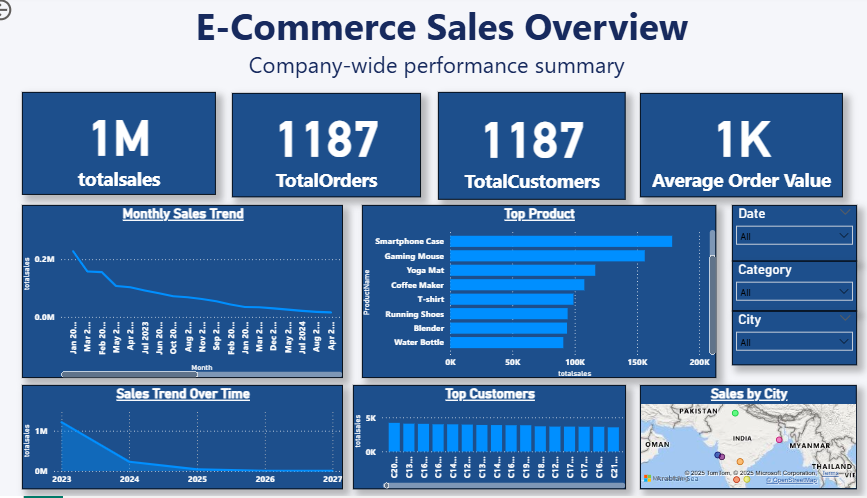

What the dashboard file says about the page in this screenshot:
{"tool":"powerbi","page":{"name":"Page 1","canvas":[1280,720],"ordinal":0},"visuals":[{"type":"textbox","box":[210,0,875,138.3],"z":0},{"type":"card","fields":{"Values":["merged_ecommerce_dataset.TotalCustomers"]},"box":[650.1,137.7,270.4,154.5],"z":1000},{"type":"card","fields":{"Values":["merged_ecommerce_dataset.TotalOrders"]},"box":[352.8,139.4,272.1,149.5],"z":2000},{"type":"card","title":"t","fields":{"Values":["merged_ecommerce_dataset.totalsales"]},"box":[50.4,138.2,279.4,148.3],"z":3000},{"type":"card","fields":{"Values":["merged_ecommerce_dataset.Average Order Value"]},"box":[940.7,139.4,292.3,149.5],"z":4000},{"type":"lineChart","title":"Monthly Sales Trend","fields":{"Category":["merged_ecommerce_dataset.Month"],"Y":["merged_ecommerce_dataset.totalsales"]},"box":[50.4,301,462.2,249.1],"z":5000},{"type":"actionButton","box":[0,0,100,40],"z":6000},{"type":"barChart","title":"Top Product","fields":{"Category":["merged_ecommerce_dataset.ProductName"],"Y":["merged_ecommerce_dataset.totalsales"]},"box":[540,301,509.8,249.1],"z":7000},{"type":"slicer","fields":{"Values":["merged_ecommerce_dataset.OrderDate"]},"box":[1072.8,301,180,80.6],"z":8000},{"type":"slicer","fields":{"Values":["merged_ecommerce_dataset.Category"]},"box":[1072.8,381.6,180,72],"z":9000},{"type":"slicer","fields":{"Values":["merged_ecommerce_dataset.City"]},"box":[1072.8,453.6,180,77.8],"z":10000},{"type":"map","title":"Sales by City","fields":{"Category":["merged_ecommerce_dataset.City"],"Size":["merged_ecommerce_dataset.TotalOrders"]},"box":[940.3,560.2,312.5,149.8],"z":11000},{"type":"areaChart","title":"Sales Trend Over Time","fields":{"Category":["merged_ecommerce_dataset.OrderDate.Variation.Date Hierarchy.Year","merged_ecommerce_dataset.OrderDate.Variation.Date Hierarchy.Quarter","merged_ecommerce_dataset.OrderDate.Variation.Date Hierarchy.Month","merged_ecommerce_dataset.OrderDate.Variation.Date Hierarchy.Day"],"Y":["merged_ecommerce_dataset.totalsales"]},"box":[50.4,560.2,462.2,149.8],"z":12000},{"type":"columnChart","title":"Top  Customers","fields":{"Category":["merged_ecommerce_dataset.CustomerID"],"Y":["merged_ecommerce_dataset.totalsales"]},"box":[527,560.2,393.1,149.8],"z":13000}]}

Visuals, with their boxes in screenshot pixels (x1, y1, x2, y2), scaled from the page's 1280x720 canvas onto the 867x498 screenshot:
textbox: crop(142, 0, 735, 96)
card - merged_ecommerce_dataset.TotalCustomers: crop(440, 95, 623, 202)
card - merged_ecommerce_dataset.TotalOrders: crop(239, 96, 423, 200)
"t" card: crop(34, 96, 223, 198)
card - merged_ecommerce_dataset.Average Order Value: crop(637, 96, 835, 200)
"Monthly Sales Trend" lineChart: crop(34, 208, 347, 380)
actionButton: crop(0, 0, 68, 28)
"Top Product" barChart: crop(366, 208, 711, 380)
slicer - merged_ecommerce_dataset.OrderDate: crop(727, 208, 849, 264)
slicer - merged_ecommerce_dataset.Category: crop(727, 264, 849, 314)
slicer - merged_ecommerce_dataset.City: crop(727, 314, 849, 368)
"Sales by City" map: crop(637, 387, 849, 491)
"Sales Trend Over Time" areaChart: crop(34, 387, 347, 491)
"Top  Customers" columnChart: crop(357, 387, 623, 491)
